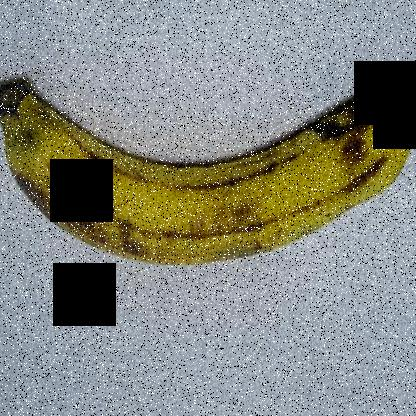overripe: (1, 56, 415, 276)
